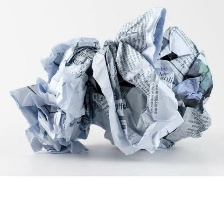news_paper: (7, 5, 217, 158)
